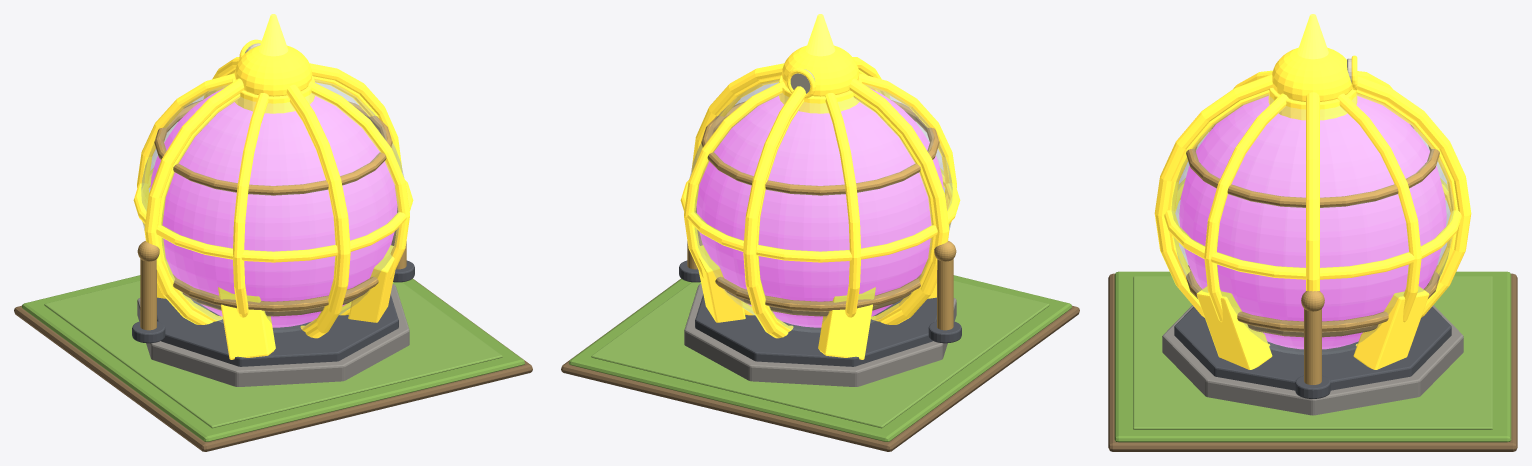
The model's file is elixir_storage_lv6.glb.
3 renders of one model, left to right at view 1: azimuth 30°, elevation 25°; view 2: azimuth 150°, elevation 25°; view 3: azimuth 270°, elevation 25°, orthographic. The views are drawn at different scales.
Visible parts, largest first — view 1: GlassOrb, ElixirCore, Base_Inner, Base_Grass, OctagonalReinforcedBase, StandPlinth, Base_Dirt, GoldenRib_1, ES_ArmorRib_1, ES_ArmorRib_0, EquatorialBrassBand, ES_ArmorRib_2 (+14 smaller); view 2: GlassOrb, ElixirCore, Base_Inner, Base_Grass, OctagonalReinforcedBase, StandPlinth, Base_Dirt, GoldenRib_0, ES_ArmorRib_0, EquatorialBrassBand, UpperTropicsBand, ES_ArmorRib_1 (+14 smaller); view 3: GlassOrb, ElixirCore, Base_Inner, Base_Grass, OctagonalReinforcedBase, StandPlinth, Base_Dirt, ES_ArmorRib_1, EquatorialBrassBand, ES_ArmorRib_3, TopPressureDome, GoldenRib_0 (+14 smaller).
Part boxes in pixels (box(x1,y1,x2,y2)): GlassOrb: box(141, 80, 404, 332); ElixirCore: box(150, 88, 397, 327); Base_Inner: box(44, 280, 502, 428); Base_Grass: box(22, 275, 524, 441); OctagonalReinforcedBase: box(157, 294, 398, 366); StandPlinth: box(137, 284, 409, 386); Base_Dirt: box(14, 279, 532, 451); GoldenRib_1: box(137, 73, 409, 315); ES_ArmorRib_1: box(206, 60, 350, 334); ES_ArmorRib_0: box(144, 63, 402, 323); EquatorialBrassBand: box(133, 168, 413, 262); ES_ArmorRib_2: box(144, 64, 399, 324); GlassOrb: box(689, 80, 952, 332); ElixirCore: box(696, 88, 943, 327); Base_Inner: box(591, 280, 1049, 428); Base_Grass: box(569, 275, 1071, 441); OctagonalReinforcedBase: box(695, 294, 936, 366); StandPlinth: box(684, 284, 956, 386); Base_Dirt: box(561, 279, 1079, 451); GoldenRib_0: box(684, 73, 956, 315); ES_ArmorRib_0: box(700, 70, 949, 324); EquatorialBrassBand: box(680, 168, 960, 262); UpperTropicsBand: box(701, 100, 939, 195); ES_ArmorRib_1: box(743, 57, 882, 338); GlassOrb: box(1172, 93, 1453, 354); ElixirCore: box(1179, 96, 1446, 349); Base_Inner: box(1133, 276, 1492, 429); Base_Grass: box(1114, 271, 1511, 442); OctagonalReinforcedBase: box(1174, 306, 1451, 390); StandPlinth: box(1162, 305, 1463, 415); Base_Dirt: box(1108, 273, 1517, 451); ES_ArmorRib_1: box(1154, 74, 1471, 317); EquatorialBrassBand: box(1164, 178, 1461, 279); ES_ArmorRib_3: box(1154, 75, 1471, 317); TopPressureDome: box(1272, 47, 1351, 101); GoldenRib_0: box(1209, 70, 1421, 346).
Size of the model in its own units: 2.76 by 2.62 by 2.76.
